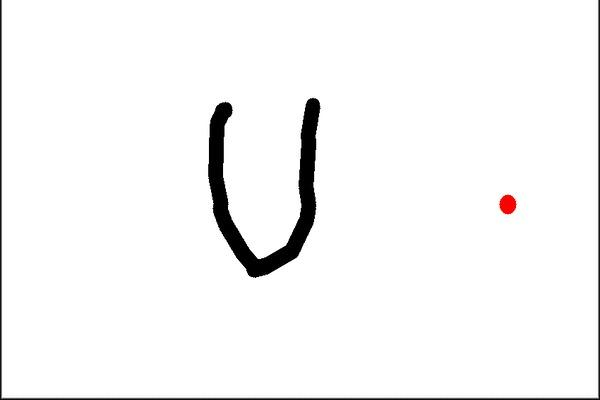U: (199, 86, 330, 279)
